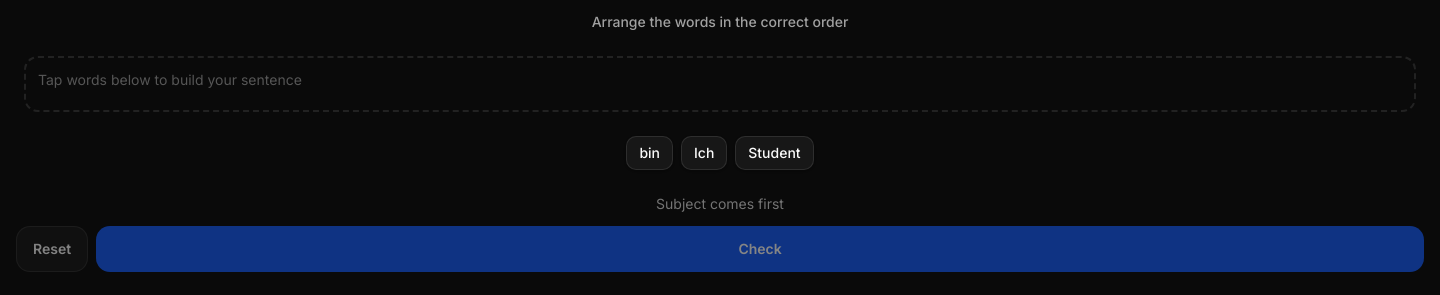
Test case: SentenceOrderExercise › resets selected words on Reset click
Click the button "Ich" at (704, 153), box [681,136,727,170]
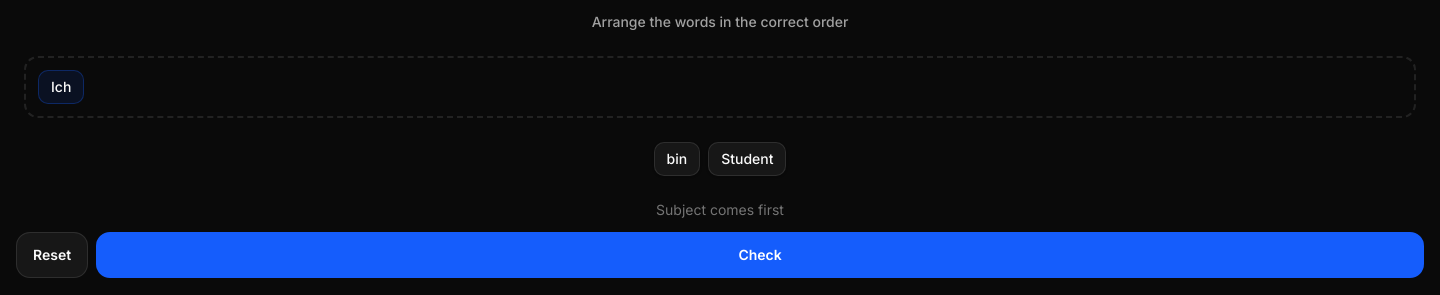
Click the button "Reset" at (52, 255), box [16,232,88,278]
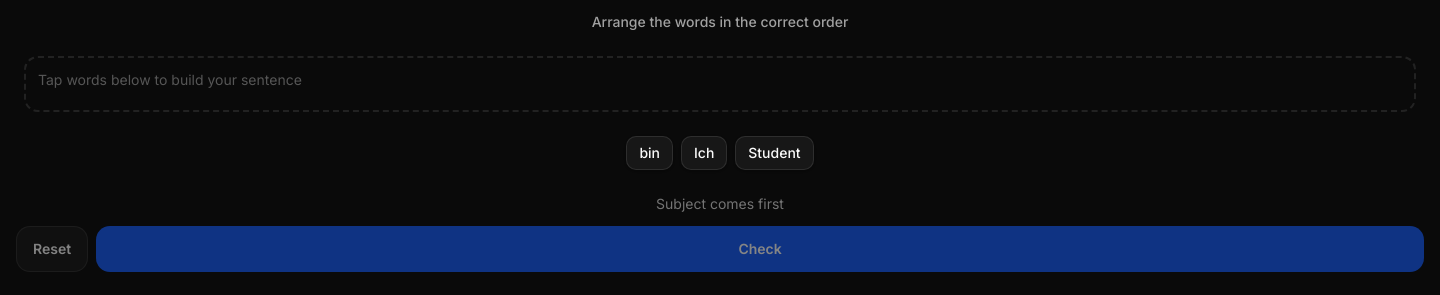
Expected: the text "Tap words below to build your sentence" is shown, [38,70,302,98]
